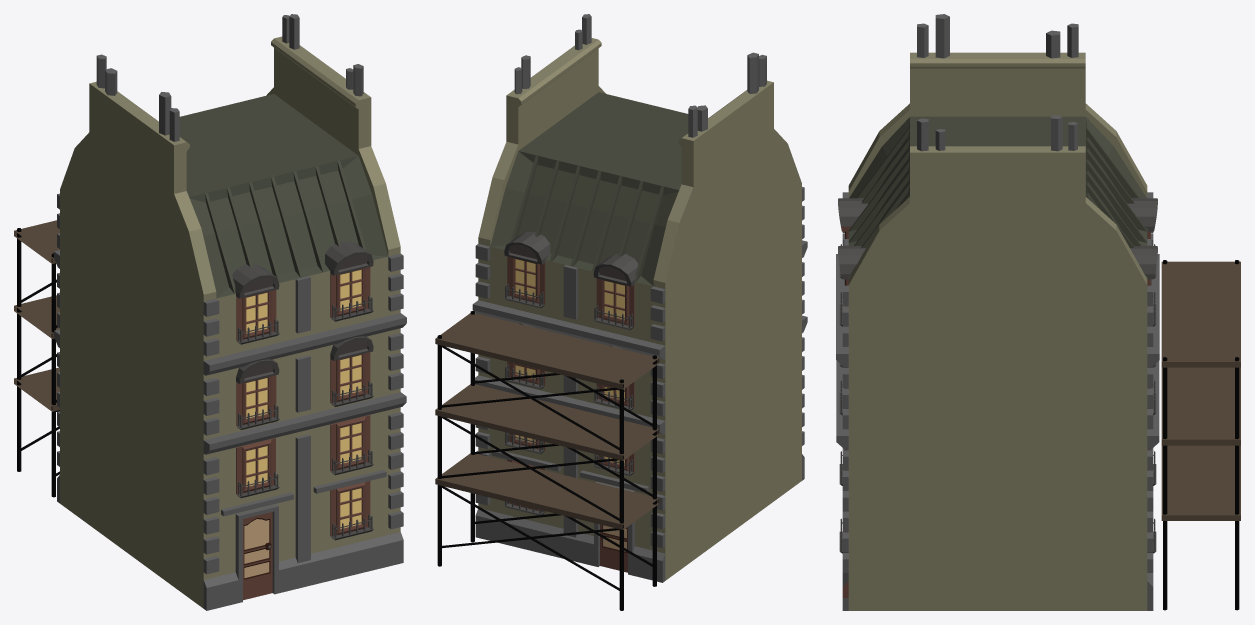
Rendered from building_scaffolding.fbx.
The picture shows the model from 3 angles, left to right: view 1: azimuth 30°, elevation 25°; view 2: azimuth 150°, elevation 25°; view 3: azimuth 270°, elevation 25°; orthographic projection. The views are drawn at different scales.
Visible parts, largest first — view 1: deck.001; view 2: deck.001; view 3: deck.001.
Part boxes in pixels (x1,y1,x2,y2): deck.001: (14, 14, 406, 610); deck.001: (435, 14, 807, 610); deck.001: (836, 14, 1240, 610).
Bounding box in the file's own units: 675 × 1564 × 1152.
